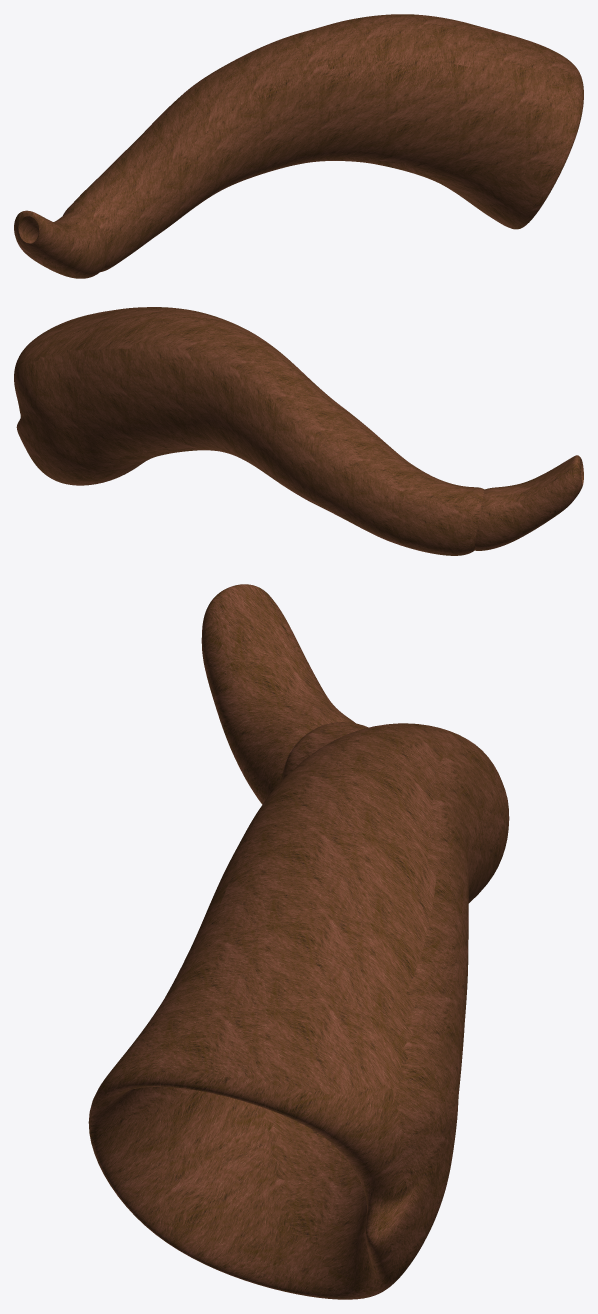
Rendered from bakweriHorn-Seeva.gltf.
3 views of the same model, one above another, from view 1: azimuth 30°, elevation 25°; view 2: azimuth 150°, elevation 25°; view 3: azimuth 270°, elevation 25° (orthographic). The views are drawn at different scales.
Visible parts, largest first — view 1: horn-Seeva; view 2: horn-Seeva; view 3: horn-Seeva.
Part boxes in pixels (<box>): horn-Seeva: <box>14,14,583,278</box>; horn-Seeva: <box>14,307,583,555</box>; horn-Seeva: <box>88,584,509,1299</box>.
Size of the model in its own units: 11.89 by 4.19 by 4.01.
Materials: 1 (1 with a texture image).
